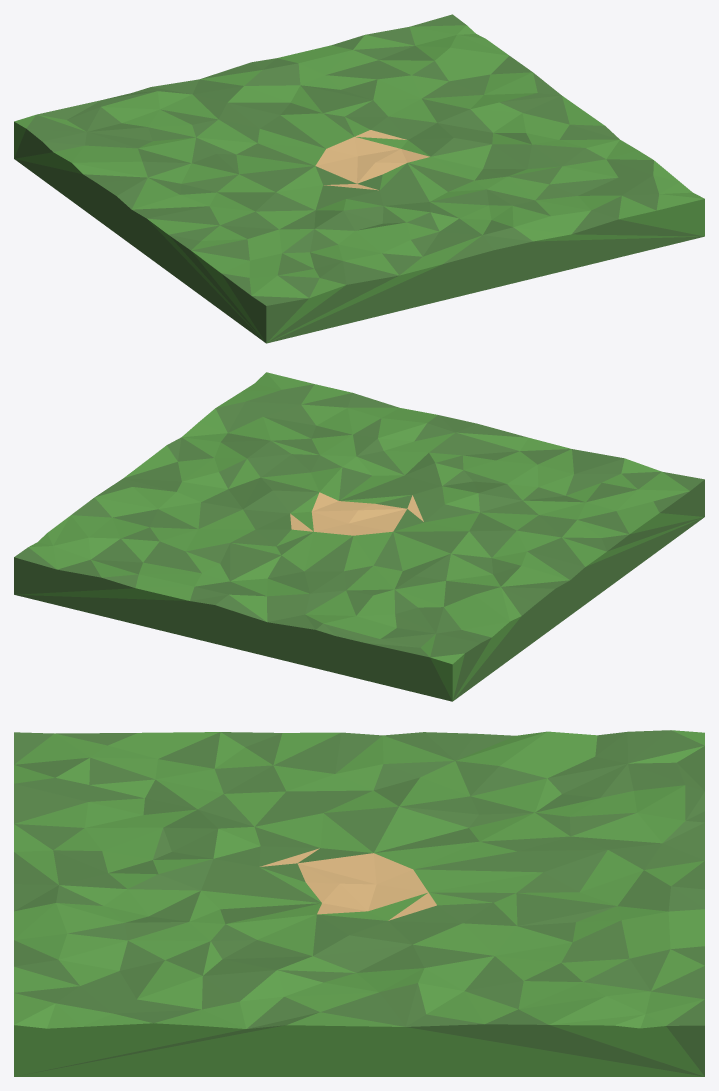
The model's file is Ground.fbx.
3 renders of one model, top to bottom at view 1: azimuth 30°, elevation 25°; view 2: azimuth 150°, elevation 25°; view 3: azimuth 270°, elevation 25°, orthographic. The views are drawn at different scales.
Visible parts, largest first — view 1: Plane; view 2: Plane; view 3: Plane.
Part boxes in pixels (x1,y1,x2,y2): Plane: [14, 14, 704, 343]; Plane: [14, 372, 704, 701]; Plane: [14, 730, 704, 1076].
Size of the model in its own units: 1604 by 145 by 1598.
